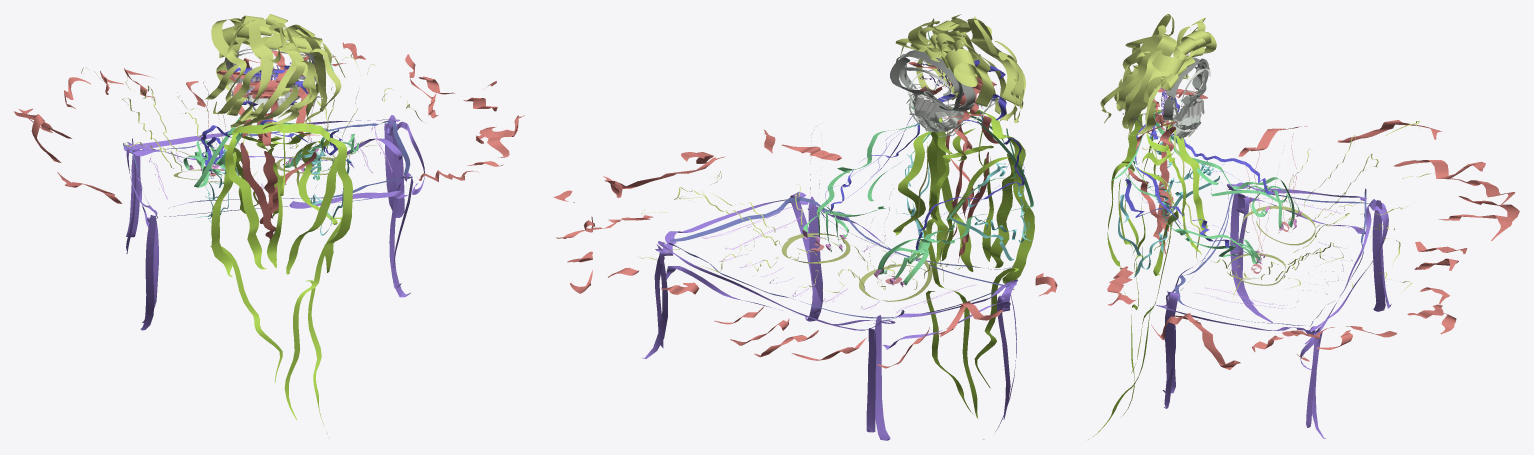
File: cloud-dj.gltf
The picture shows the model from 3 angles, left to right: view 1: azimuth 30°, elevation 25°; view 2: azimuth 150°, elevation 25°; view 3: azimuth 270°, elevation 25°; orthographic projection. The views are drawn at different scales.
Size of the model in its own units: 1.81 by 1.56 by 1.5.
Materials: 3 (2 with a texture image).
